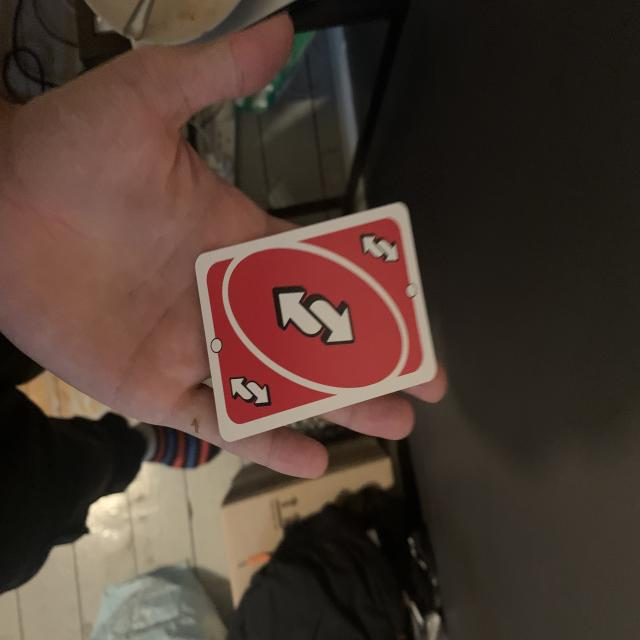lredrevers-20: (225, 368, 276, 421)
